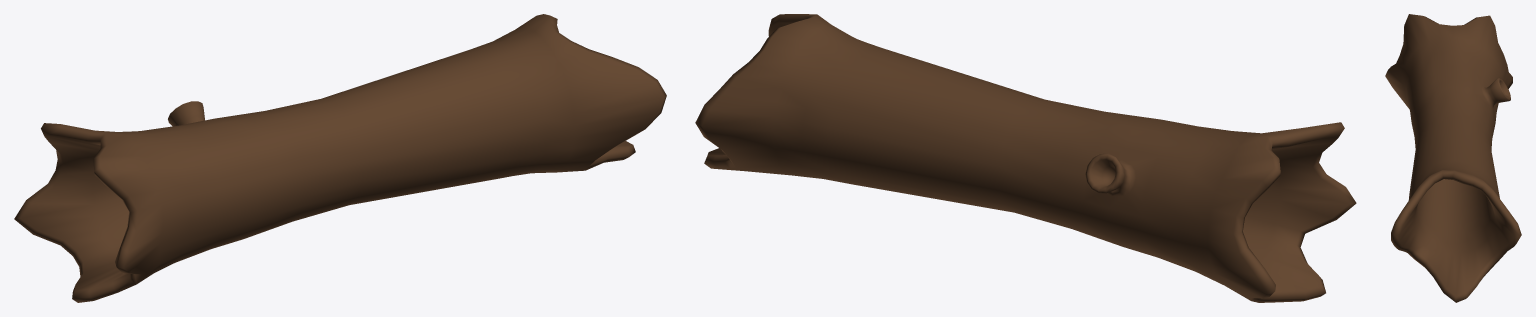
The model's file is stump-compressed.glb.
3 views of the same model, side by side, from view 1: azimuth 30°, elevation 25°; view 2: azimuth 150°, elevation 25°; view 3: azimuth 270°, elevation 25° (orthographic). The views are drawn at different scales.
Visible parts, largest first — view 1: stump; view 2: stump; view 3: stump.
Part boxes in pixels (box(x1,y1,x2,y2)): stump: box(14, 14, 666, 302); stump: box(695, 14, 1356, 302); stump: box(1385, 14, 1521, 302).
Size of the model in its own units: 2.35 by 0.6002 by 0.7067.
